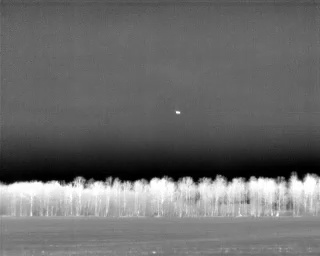DRONE: (172, 106, 184, 118)
